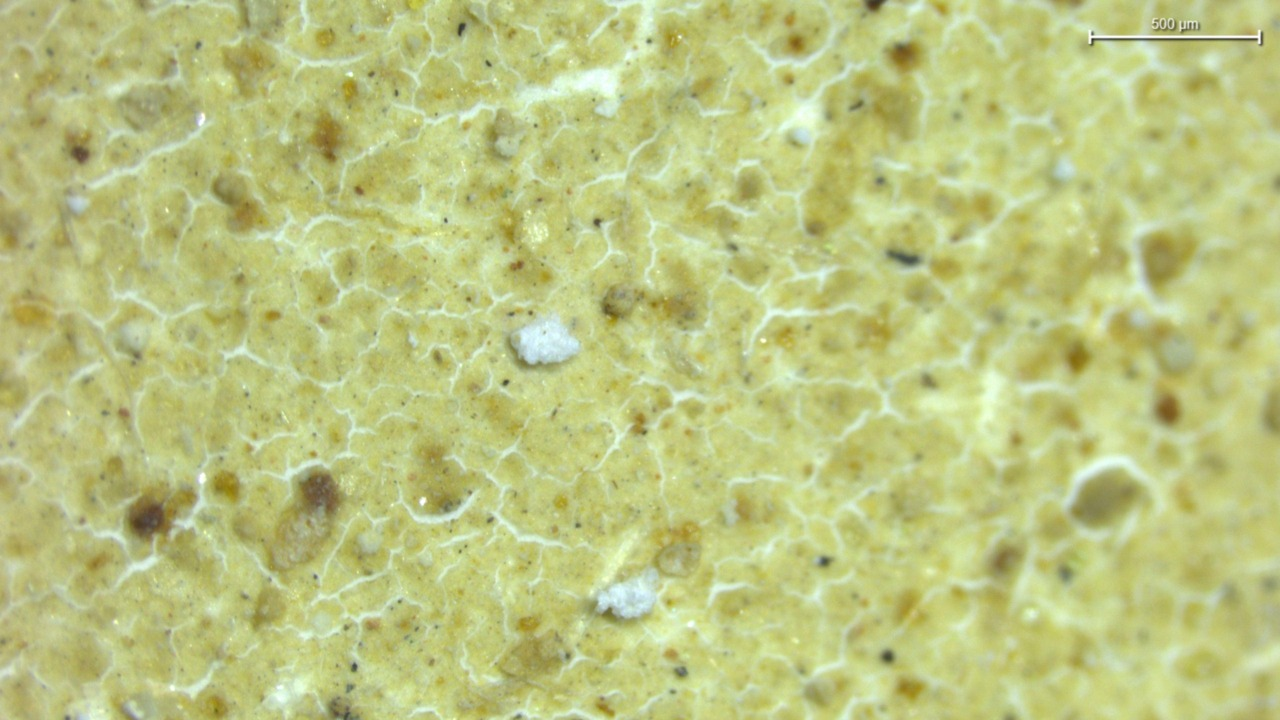microplastic_fragment: (510, 314, 582, 365), (594, 573, 659, 618), (494, 109, 529, 154)
